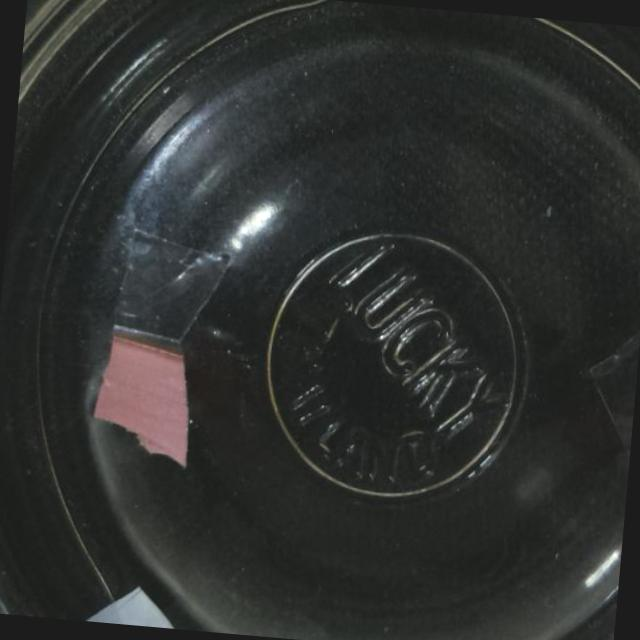fiber: (86, 320, 199, 466), (61, 564, 208, 631)
